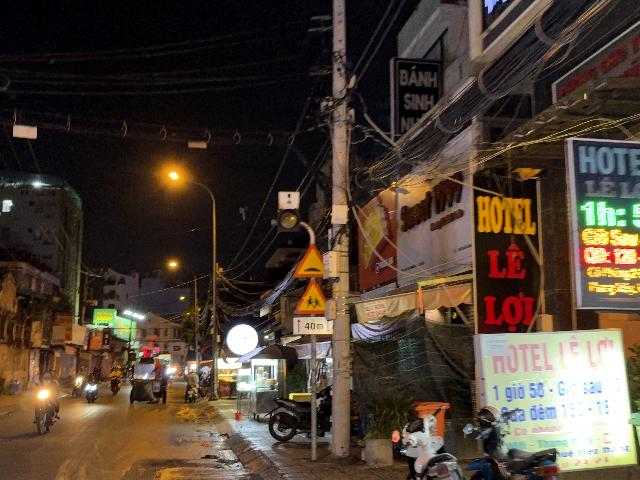duong-co-go-giam-toc: (293, 244, 322, 278)
tre-em-qua-duong: (294, 279, 327, 314)
